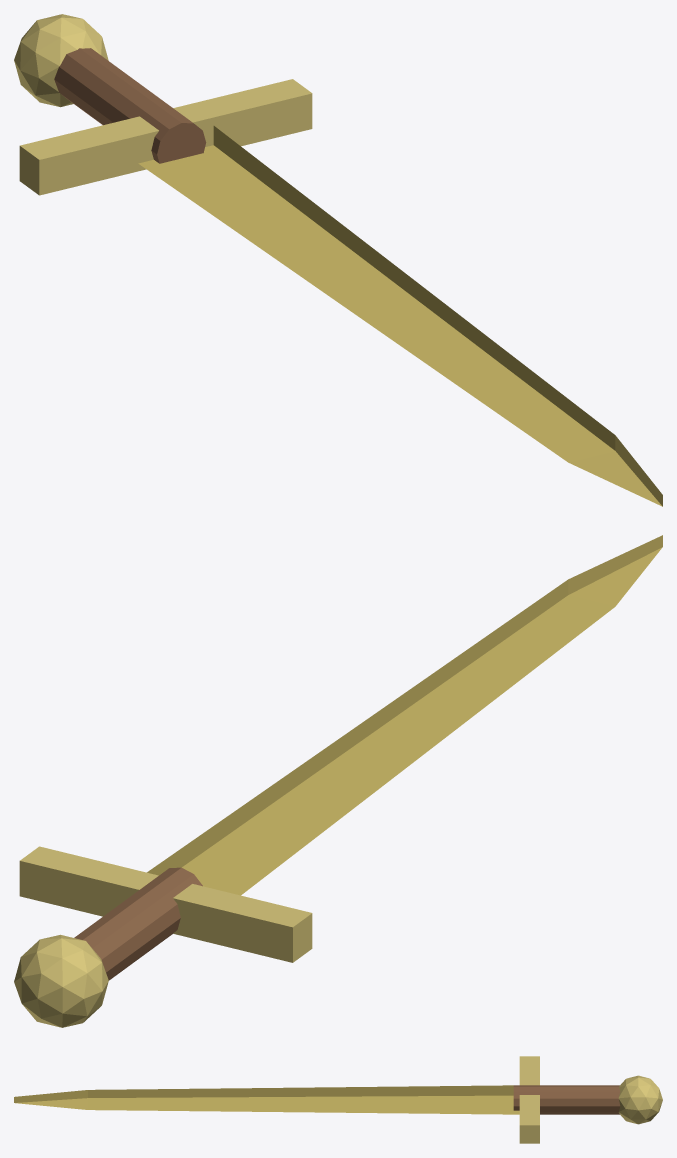
Rendered from golden_greatsword.glb.
3 renders of one model, top to bottom at view 1: azimuth 30°, elevation 25°; view 2: azimuth 150°, elevation 25°; view 3: azimuth 270°, elevation 25°, orthographic. The views are drawn at different scales.
Parts seen in each view (by area): view 1: sword_0_0, sword_0_1, sword_0_2, sword_0_3; view 2: sword_0_0, sword_0_1, sword_0_3, sword_0_2; view 3: sword_0_0, sword_0_2, sword_0_3, sword_0_1.
Part boxes in pixels (bbox=[...]): sword_0_0: bbox=[138, 126, 662, 506]; sword_0_1: bbox=[19, 79, 312, 195]; sword_0_2: bbox=[54, 48, 206, 163]; sword_0_3: bbox=[14, 14, 108, 107]; sword_0_0: bbox=[147, 535, 662, 895]; sword_0_1: bbox=[19, 846, 312, 962]; sword_0_3: bbox=[14, 934, 108, 1027]; sword_0_2: bbox=[74, 867, 202, 980]; sword_0_0: bbox=[14, 1085, 519, 1114]; sword_0_2: bbox=[513, 1085, 620, 1114]; sword_0_3: bbox=[618, 1075, 662, 1124]; sword_0_1: bbox=[519, 1056, 539, 1143].
Size of the model in its own units: 1.45 by 0.4352 by 5.73.
